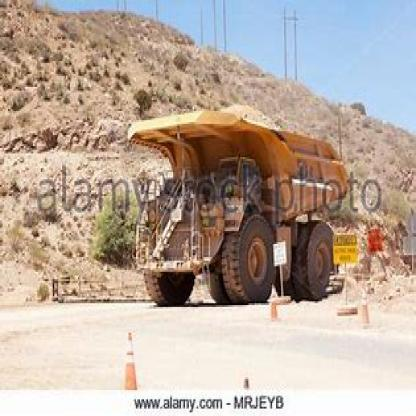dump_truck: (121, 102, 348, 309)
